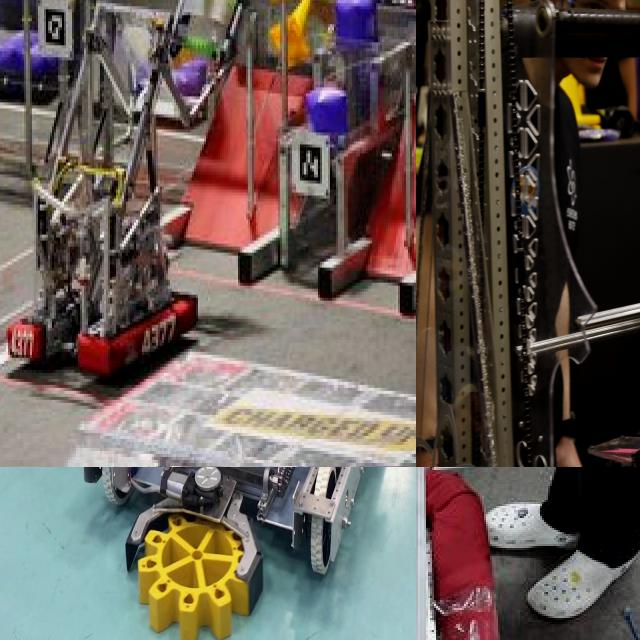FRC-Robots: (4, 0, 286, 416), (416, 0, 640, 467), (71, 467, 407, 630), (416, 467, 554, 640)
